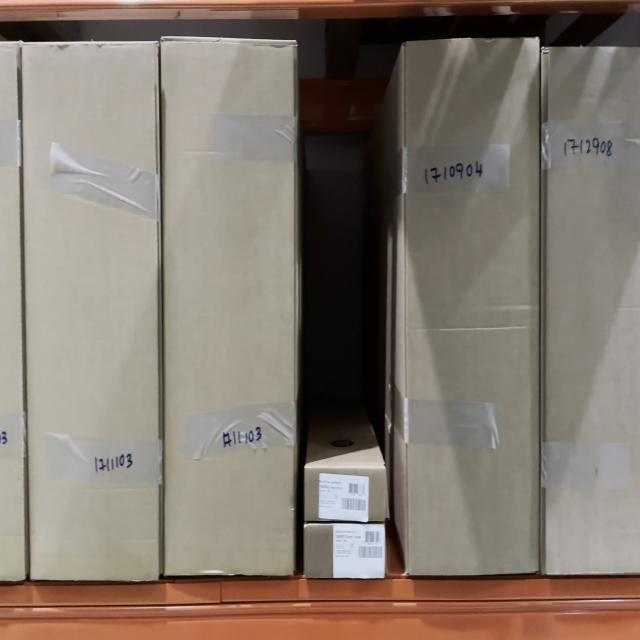box: (405, 44, 542, 576), (28, 44, 161, 582), (161, 40, 292, 578), (304, 527, 386, 577), (306, 471, 385, 520)
